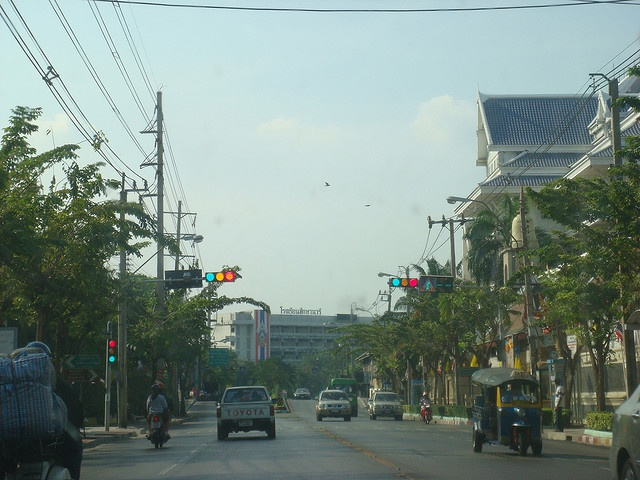non-vehicle: (143, 408, 173, 449), (420, 408, 431, 424), (199, 393, 203, 400)
